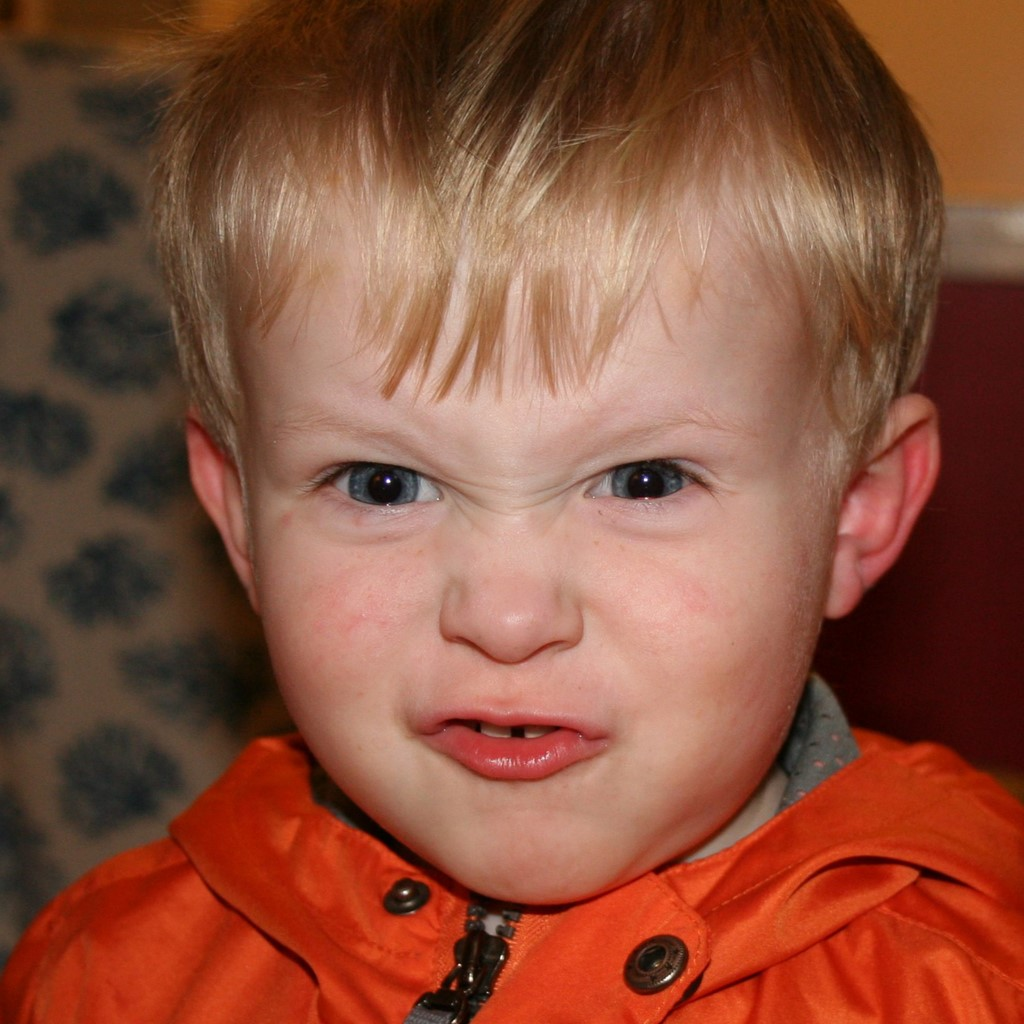sin_mascara: (176, 27, 909, 908)
